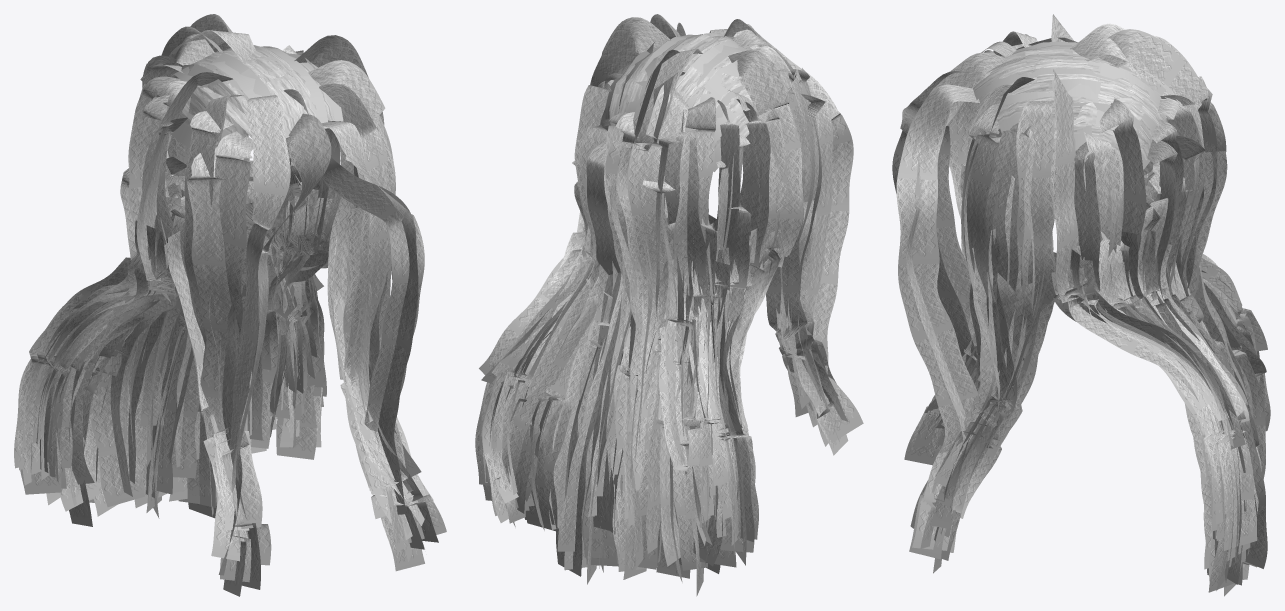
The model's file is NC_Head_Male_Cards5.fbx.
3 renders of one model, left to right at view 1: azimuth 30°, elevation 25°; view 2: azimuth 150°, elevation 25°; view 3: azimuth 270°, elevation 25°, orthographic. The views are drawn at different scales.
Visible parts, largest first — view 1: Hair_LongCurls_Cards_2, Hair_LongCurls_CapCards, Hair_LongCurls_CapCards_2, Hair_LongCurls_Cards_3, Hair_FlatTwists_Cards; view 2: Hair_LongCurls_Cards_2, Hair_LongCurls_CapCards, Hair_LongCurls_CapCards_2, Hair_LongCurls_Cards_3, Hair_FlatTwists_Cards; view 3: Hair_LongCurls_Cards_2, Hair_LongCurls_CapCards, Hair_LongCurls_CapCards_2, Hair_LongCurls_Cards_3, Hair_FlatTwists_Cards.
Part boxes in pixels (x1,y1,x2,y2): Hair_LongCurls_Cards_2: (14,14,424,596); Hair_LongCurls_CapCards: (16,158,433,589); Hair_LongCurls_CapCards_2: (20,183,446,582); Hair_LongCurls_Cards_3: (96,76,422,562); Hair_FlatTwists_Cards: (170,45,343,147); Hair_LongCurls_Cards_2: (479,14,853,578); Hair_LongCurls_CapCards: (480,208,863,596); Hair_LongCurls_CapCards_2: (475,193,839,582); Hair_LongCurls_Cards_3: (490,51,848,566); Hair_FlatTwists_Cards: (601,33,753,171); Hair_LongCurls_Cards_2: (892,14,1270,584); Hair_LongCurls_CapCards: (904,166,1267,596); Hair_LongCurls_CapCards_2: (909,189,1267,590); Hair_LongCurls_Cards_3: (936,50,1265,530); Hair_FlatTwists_Cards: (971,37,1167,169).
Bounding box in the file's own units: 1.22 × 2.07 × 1.32.
1 material, 1 textured.
